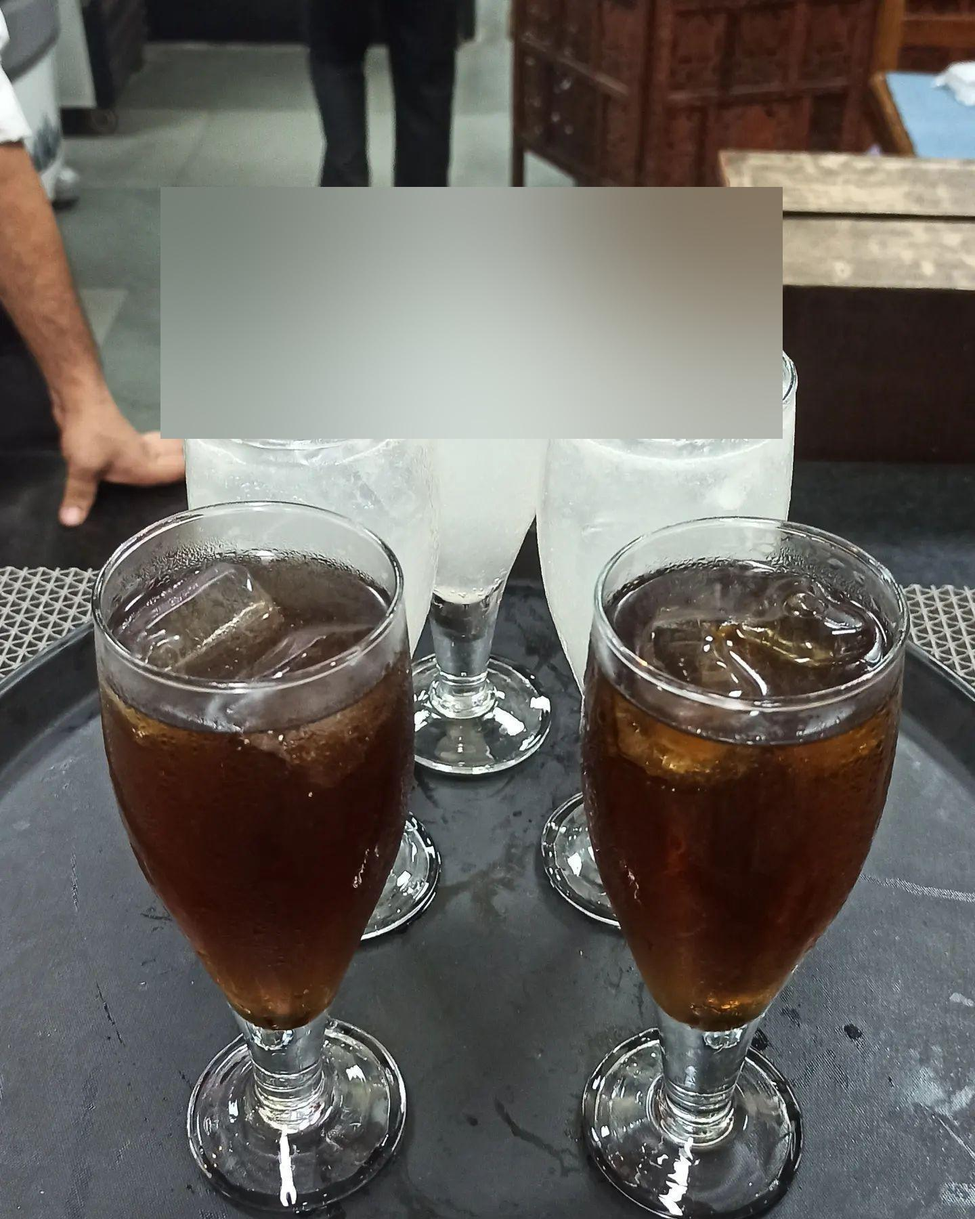glass-wine: (91, 500, 440, 1218), (579, 513, 919, 1219)
